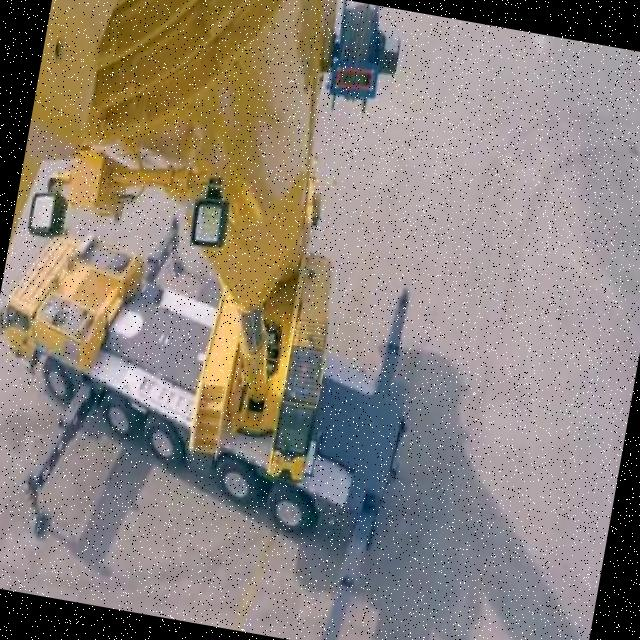Mobile Crane: (0, 0, 476, 640)
